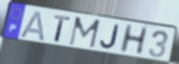3: (148, 30, 170, 58)
A: (19, 10, 46, 43)
H: (118, 23, 150, 56)
J: (99, 24, 121, 50)
M: (67, 16, 102, 50)
T: (52, 15, 72, 44)
